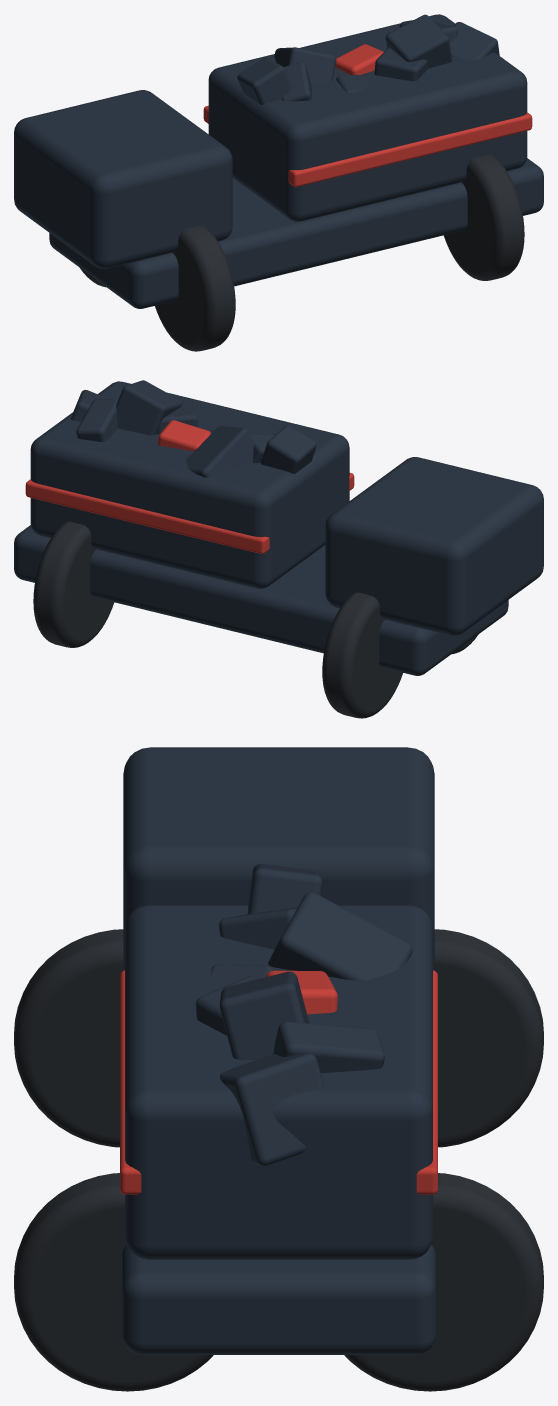
The picture shows the model from 3 angles, top to bottom: view 1: azimuth 30°, elevation 25°; view 2: azimuth 150°, elevation 25°; view 3: azimuth 270°, elevation 25°; orthographic projection. The views are drawn at different scales.
Visible parts, largest first — view 1: bed, cab, chassis, w1-1_tyre, w0-1_tyre, rail, load6, load0, load2, load8, load5, load4 (+2 smaller); view 2: bed, cab, chassis, w11_tyre, w01_tyre, rail, load2, load6, load0, load7, load4, load5 (+1 smaller); view 3: bed, cab, chassis, w1-1_tyre, w11_tyre, w0-1_tyre, w01_tyre, load2, load8, load6, load7, rail (+5 smaller).
Part boxes in pixels (left/top/right/bottom): bed: left=208, top=14, right=527, bottom=221; cab: left=14, top=90, right=232, bottom=268; chassis: left=49, top=158, right=543, bottom=308; w1-1_tyre: left=443, top=154, right=524, bottom=280; w0-1_tyre: left=155, top=225, right=235, bottom=351; rail: left=203, top=105, right=532, bottom=187; load6: left=385, top=14, right=452, bottom=68; load0: left=237, top=57, right=292, bottom=104; load2: left=274, top=47, right=336, bottom=84; load8: left=449, top=22, right=499, bottom=59; load5: left=374, top=47, right=428, bottom=81; load4: left=335, top=44, right=383, bottom=75; bed: left=30, top=381, right=349, bottom=588; cab: left=325, top=457, right=543, bottom=635; chassis: left=14, top=525, right=508, bottom=675; w11_tyre: left=33, top=521, right=114, bottom=647; w01_tyre: left=322, top=592, right=402, bottom=718; rail: left=25, top=473, right=354, bottom=553; load2: left=186, top=425, right=254, bottom=477; load6: left=116, top=380, right=181, bottom=435; load0: left=260, top=425, right=316, bottom=473; load7: left=76, top=399, right=117, bottom=441; load4: left=157, top=420, right=210, bottom=451; load5: left=157, top=401, right=197, bottom=434; bed: left=125, top=905, right=432, bottom=1259; cab: left=123, top=747, right=434, bottom=970; chassis: left=121, top=1244, right=436, bottom=1354; w1-1_tyre: left=14, top=1173, right=213, bottom=1391; w11_tyre: left=344, top=1173, right=543, bottom=1391; w0-1_tyre: left=14, top=929, right=123, bottom=1147; w01_tyre: left=434, top=929, right=543, bottom=1147; load2: left=268, top=892, right=412, bottom=980; load8: left=220, top=1052, right=324, bottom=1166; load6: left=219, top=971, right=309, bottom=1059; load7: left=273, top=1021, right=384, bottom=1073; rail: left=120, top=970, right=437, bottom=1194.
Size of the model in its own units: 3 by 1.45 by 1.77.
